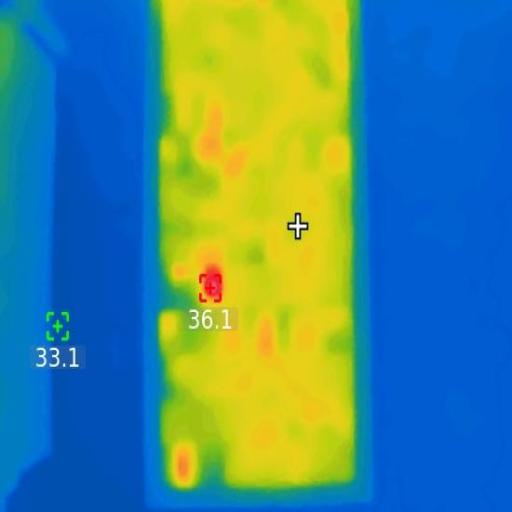hotspot: (200, 268, 223, 300)
